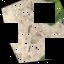Purslane: (7, 0, 64, 63)
